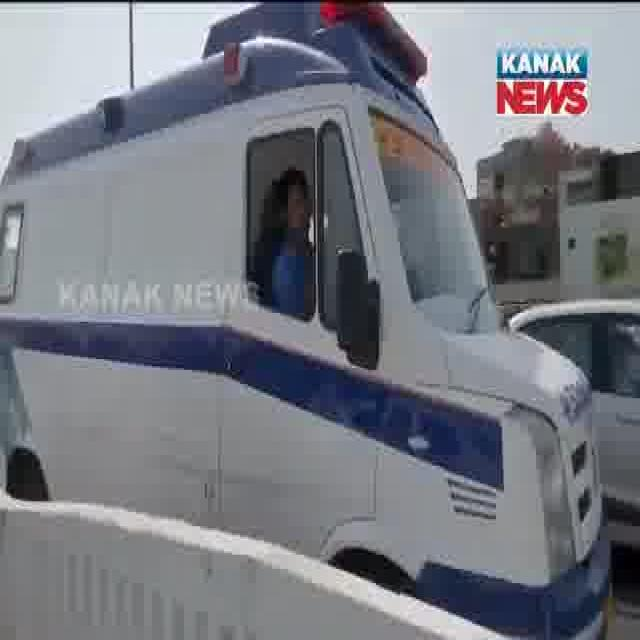ambulance: (3, 0, 624, 639)
